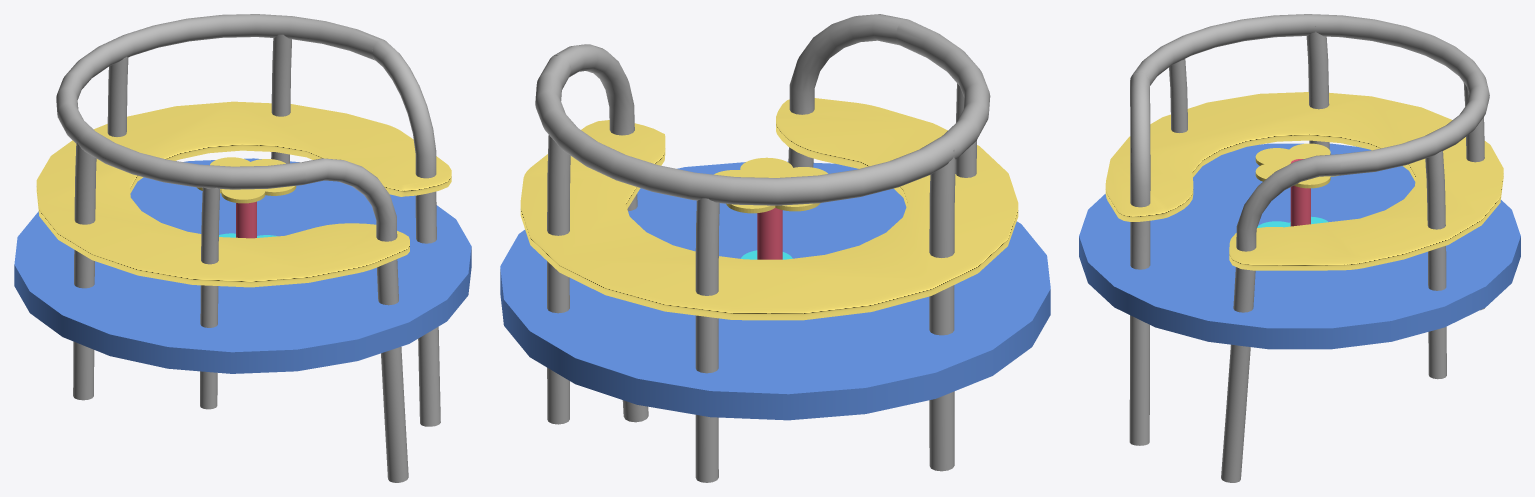
Rendered from Chambre_enfant_souvenir_tourniquet.fbx.
3 renders of one model, left to right at view 1: azimuth 30°, elevation 25°; view 2: azimuth 150°, elevation 25°; view 3: azimuth 270°, elevation 25°, orthographic. The views are drawn at different scales.
Parts seen in each view (by area): view 1: Cylinder, Cylinder.003, BézierCurve.004, fleur, Cylinder.004; view 2: Cylinder, Cylinder.003, BézierCurve.004, fleur, Cylinder.004; view 3: Cylinder, Cylinder.003, BézierCurve.004, fleur, Cylinder.004.
Part boxes in pixels (x1,y1,x2,y2): Cylinder: (14,158,471,373); Cylinder.003: (36,101,451,287); BézierCurve.004: (56,14,440,482); fleur: (197,157,296,203); Cylinder.004: (236,201,256,238); Cylinder: (500,161,1050,420); Cylinder.003: (520,98,1018,320); BézierCurve.004: (535,14,990,482); fleur: (714,157,827,213); Cylinder.004: (757,208,782,259); Cylinder: (1079,143,1520,349); Cylinder.003: (1105,92,1503,270); BézierCurve.004: (1129,14,1489,482); fleur: (1255,143,1338,188); Cylinder.004: (1290,159,1310,226).
Bounding box in the file's own units: 437 × 363 × 442.
